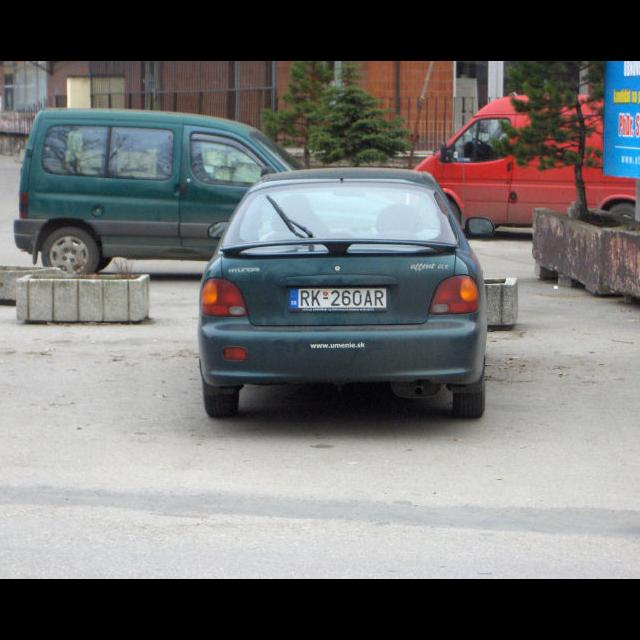Plate: (288, 285, 388, 311)
